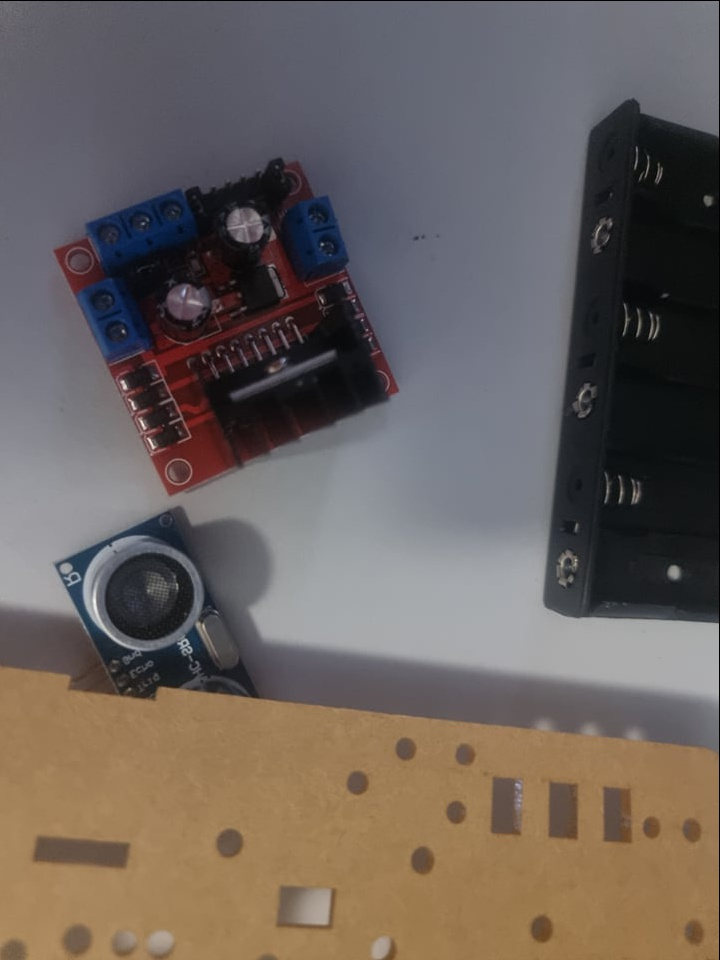BATTERY BOX: (535, 98, 720, 625)
MOTOR: (52, 158, 400, 495)
SENSOR: (25, 501, 272, 722)
